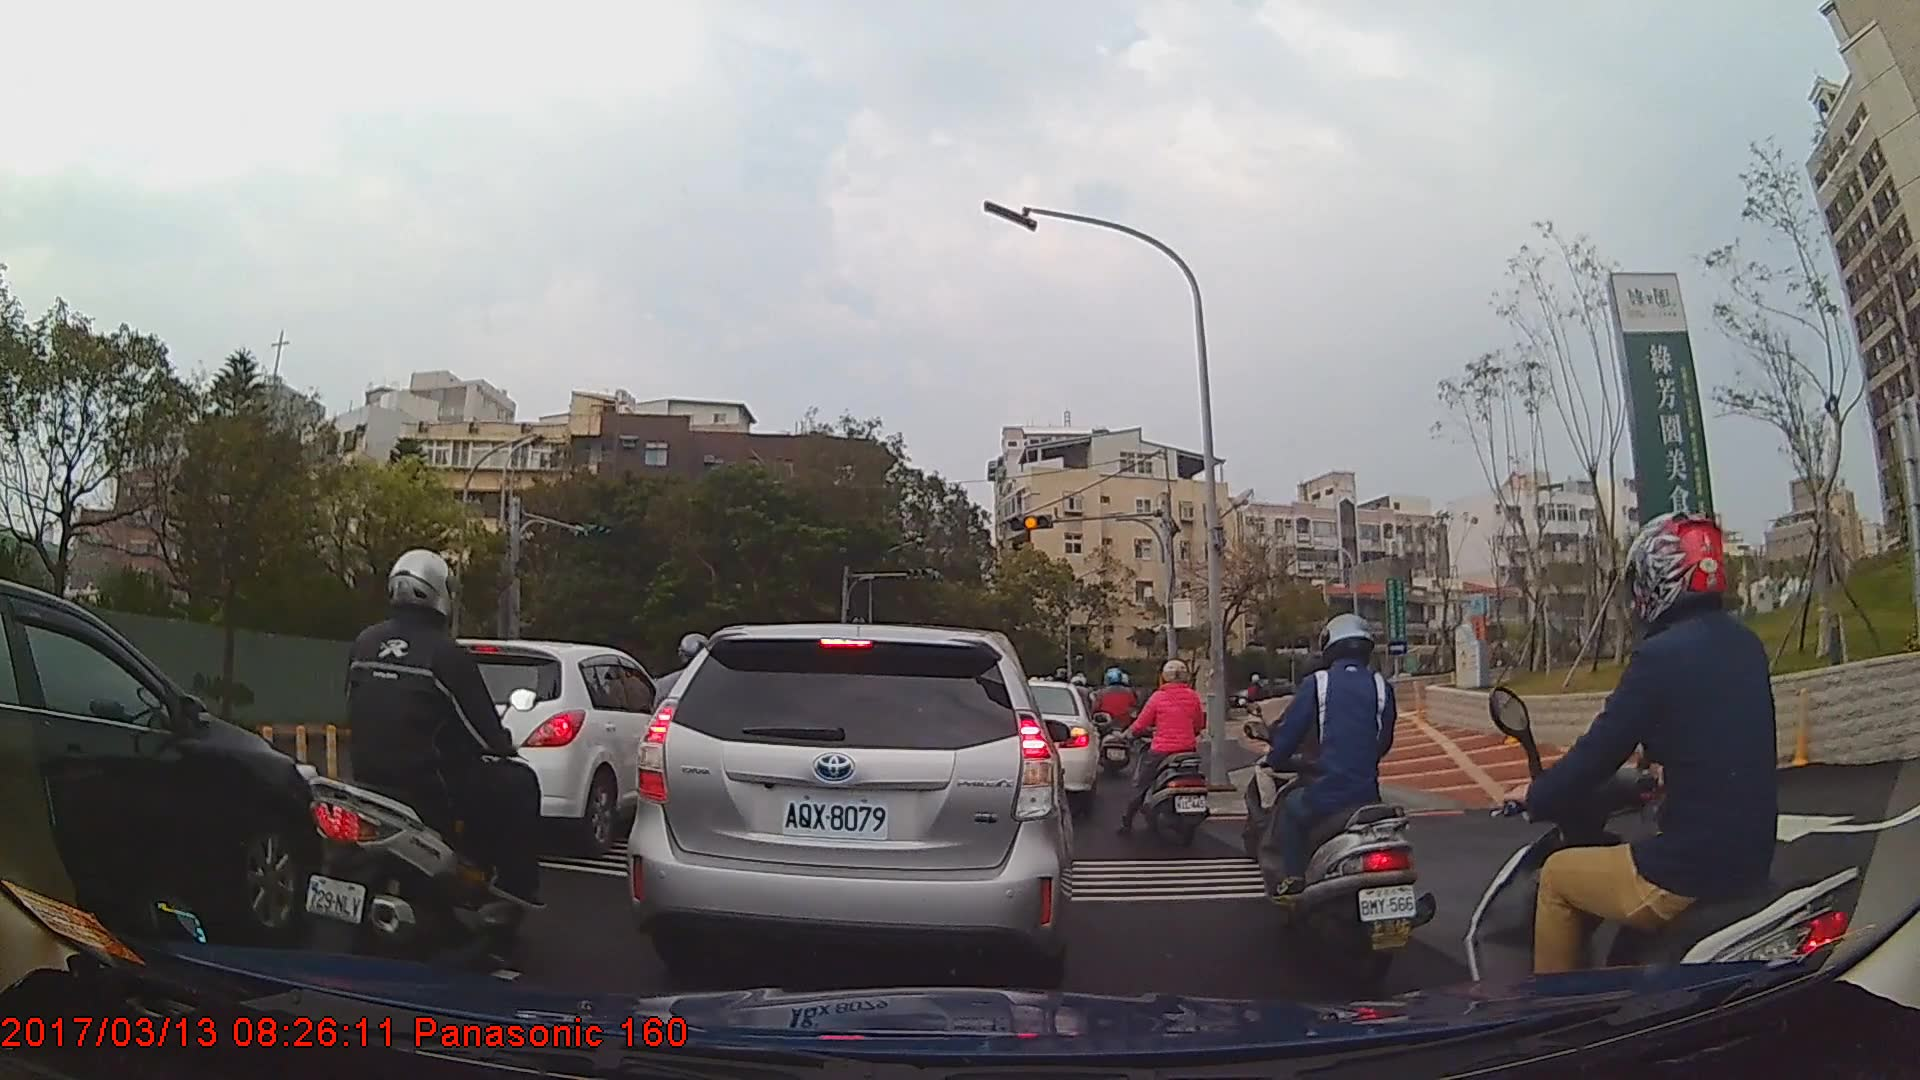rider: (1466, 512, 1866, 1077), (300, 547, 549, 990), (1248, 612, 1429, 1001), (1133, 662, 1213, 854), (1091, 666, 1140, 775)
vehicle: (626, 622, 1075, 990), (0, 573, 330, 943), (378, 637, 667, 858), (993, 678, 1100, 809)
